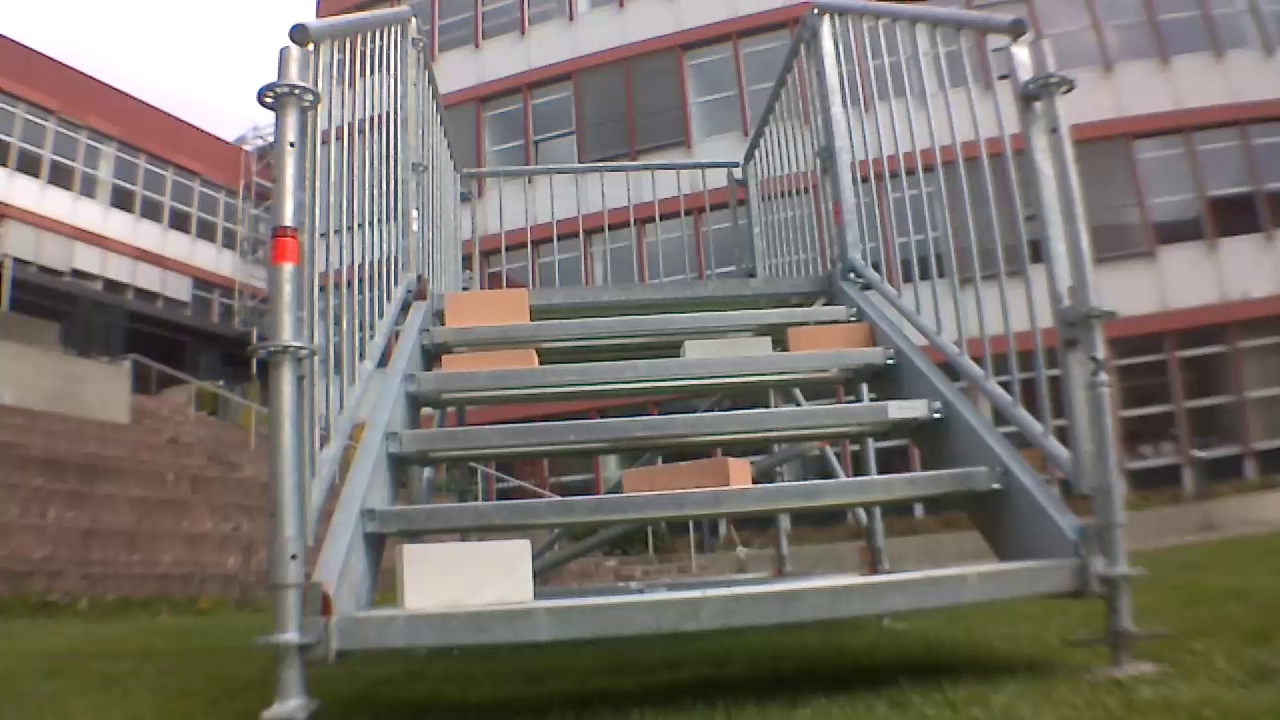brick: (400, 533, 537, 610), (621, 457, 753, 495), (441, 287, 532, 330), (442, 346, 541, 374), (677, 335, 777, 356), (787, 324, 870, 349)
edge: (336, 564, 1085, 652), (360, 467, 1005, 531), (383, 397, 944, 459), (398, 345, 903, 394), (424, 305, 862, 345), (427, 271, 830, 305)
stairs: (256, 1, 1117, 688)
steps: (329, 268, 1087, 659)
